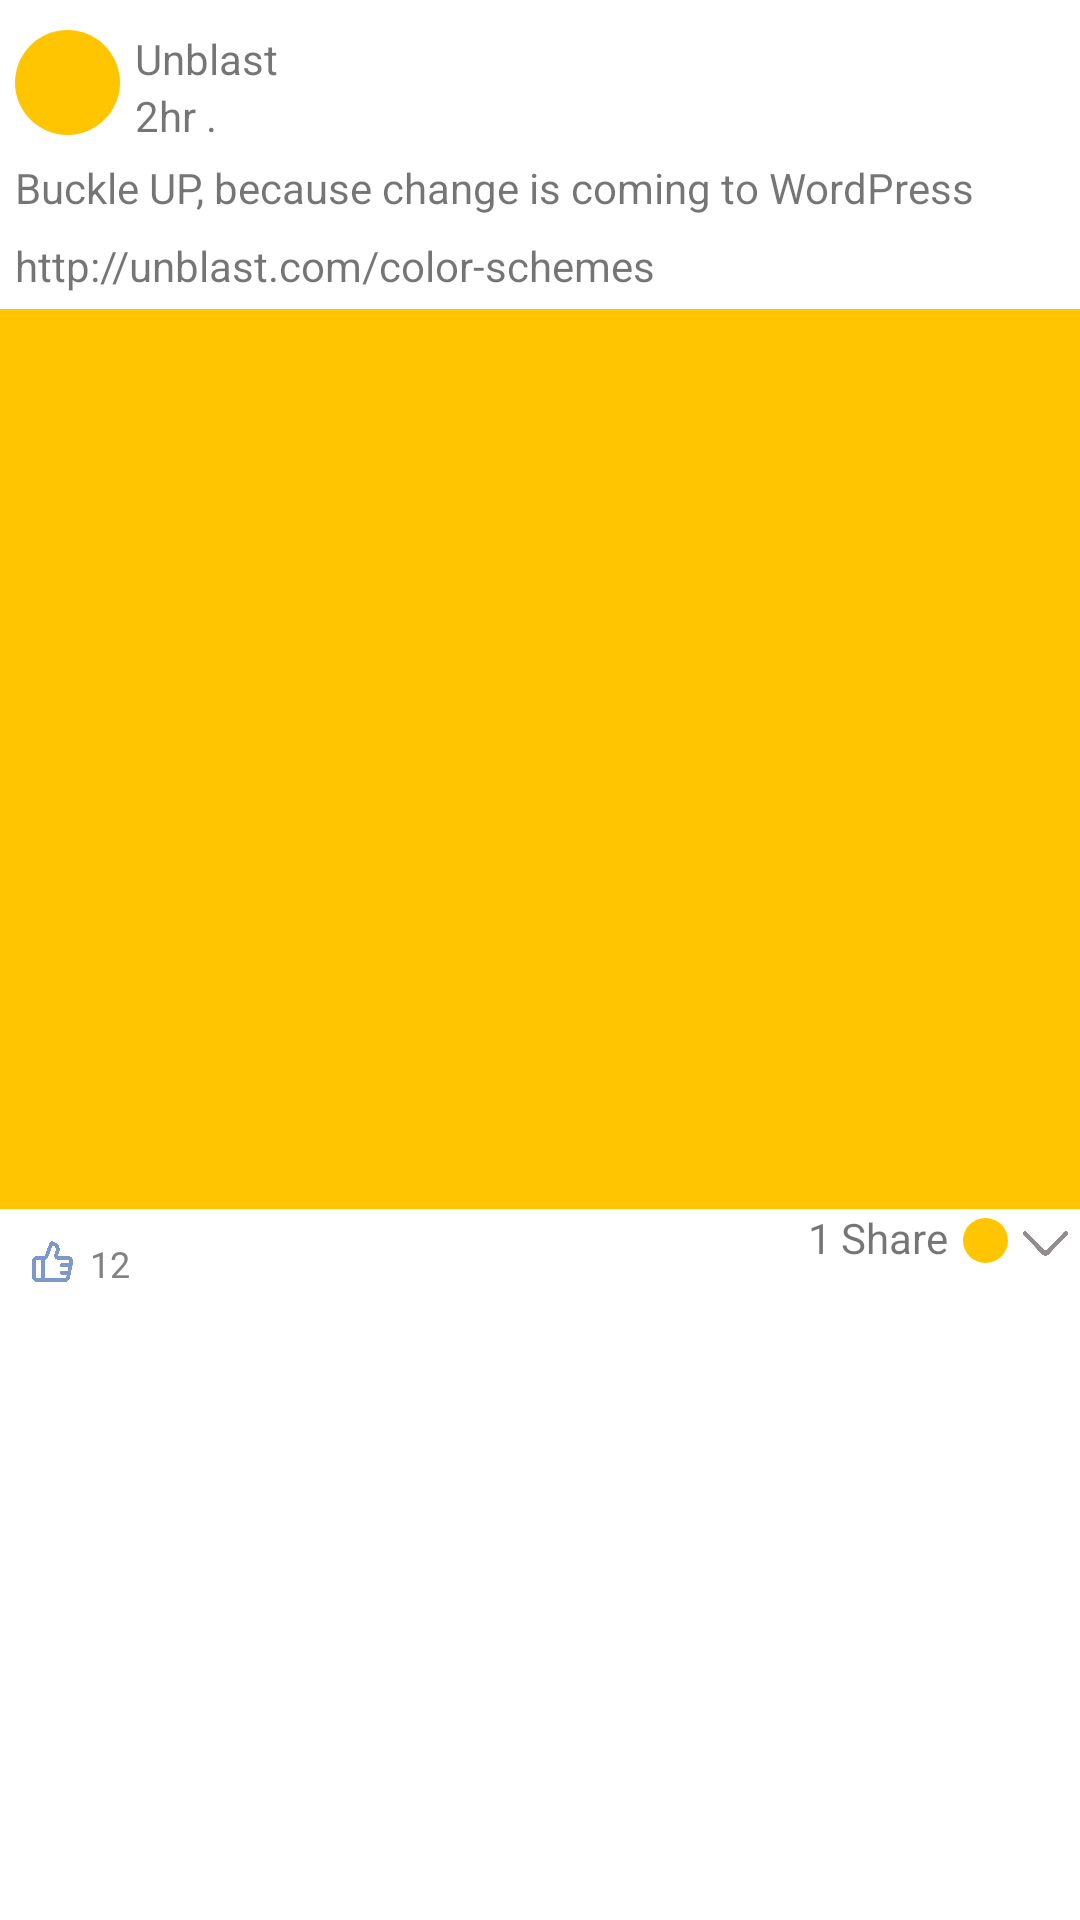

Icons on this 1080 x 1920 Android screen, each with its box as (x1, y1, x2, y2):
arrow down: (1023, 1231, 1068, 1256)
likebutton: (32, 1241, 73, 1282)
